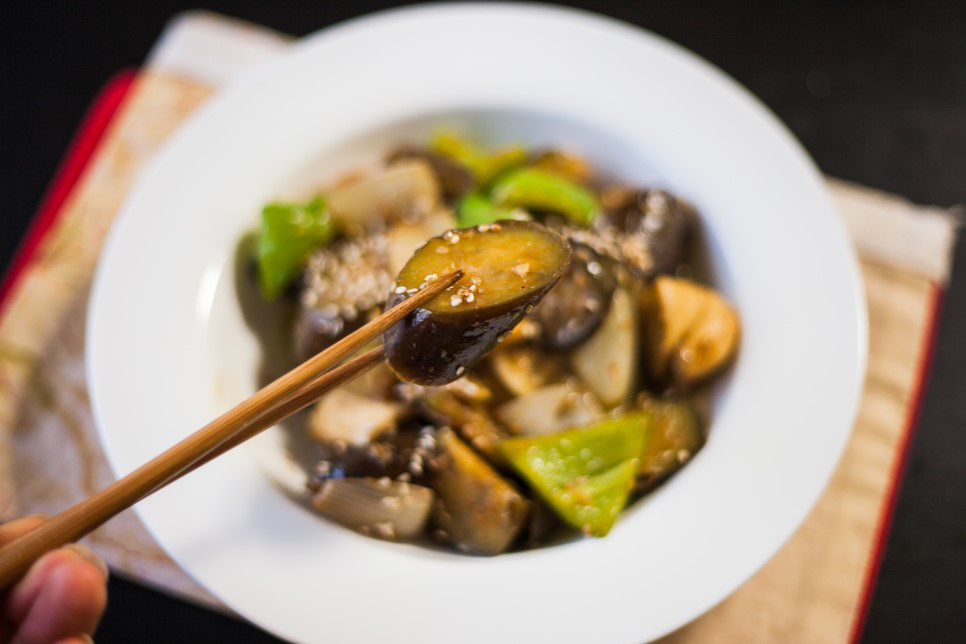gajinamul: (273, 145, 719, 555)
